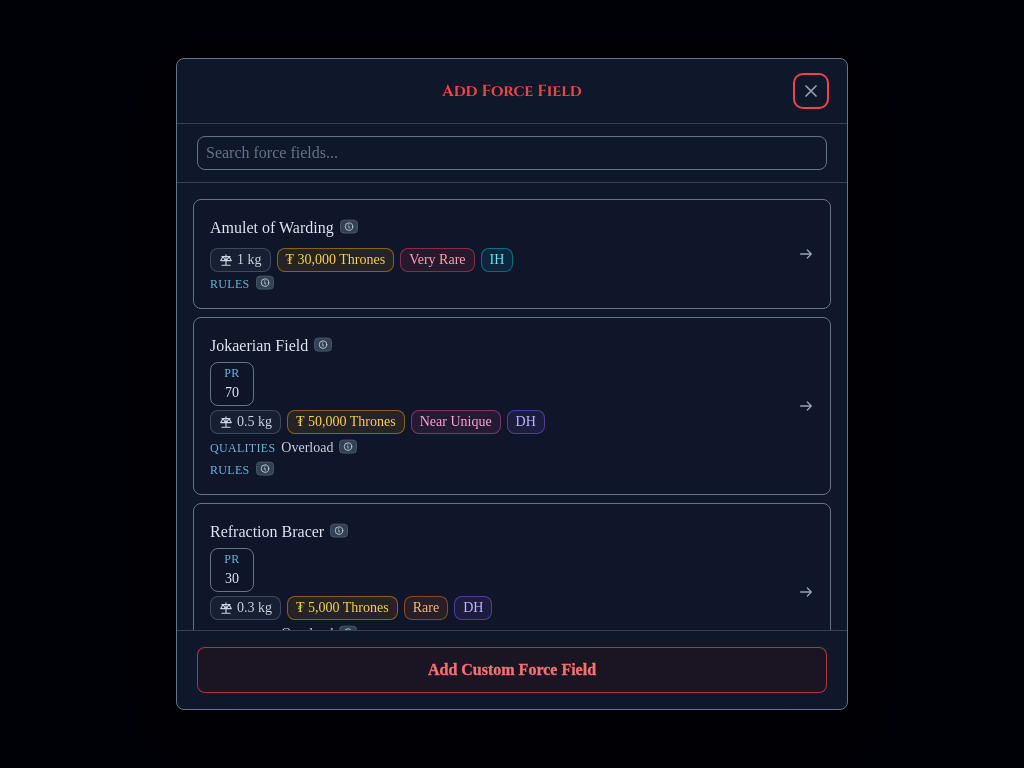
Scenario: ForceFieldPicker list › filters the list by search query
Step 1. Type "Jokaerian" into the search field with placeholder "Search force fields..." → (512, 153), box [197,136,827,170]
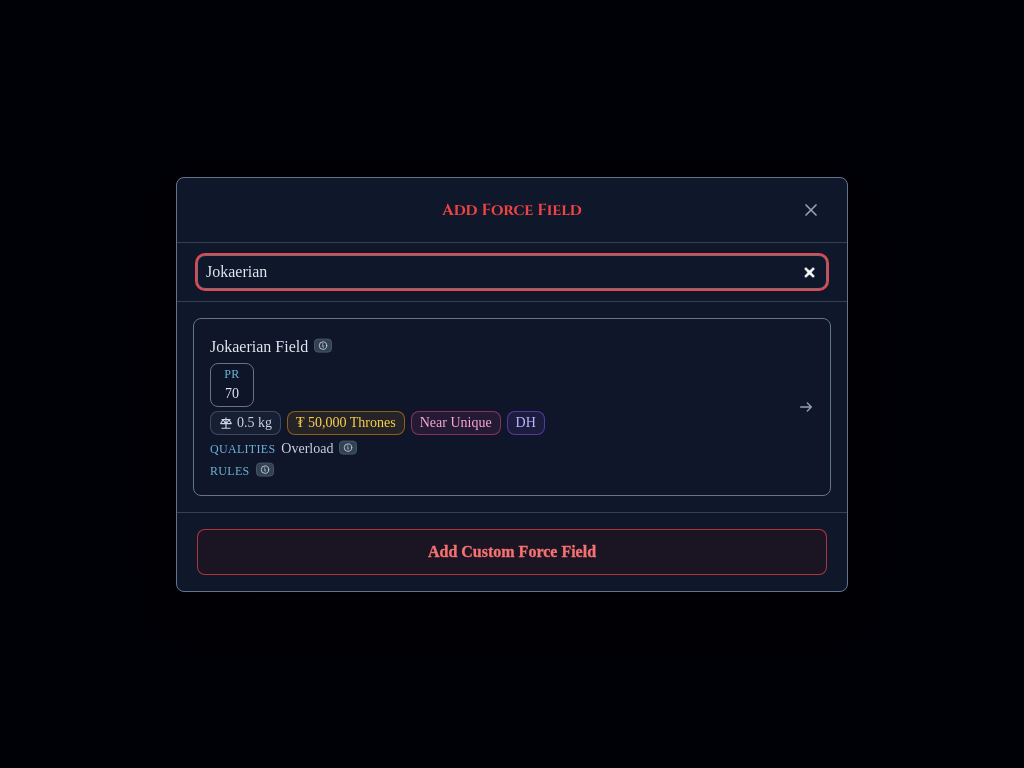
Expected: the button "Jokaerian Field" is shown, [193,318,831,496]
Now the button "Refraction Bracer" is gone
